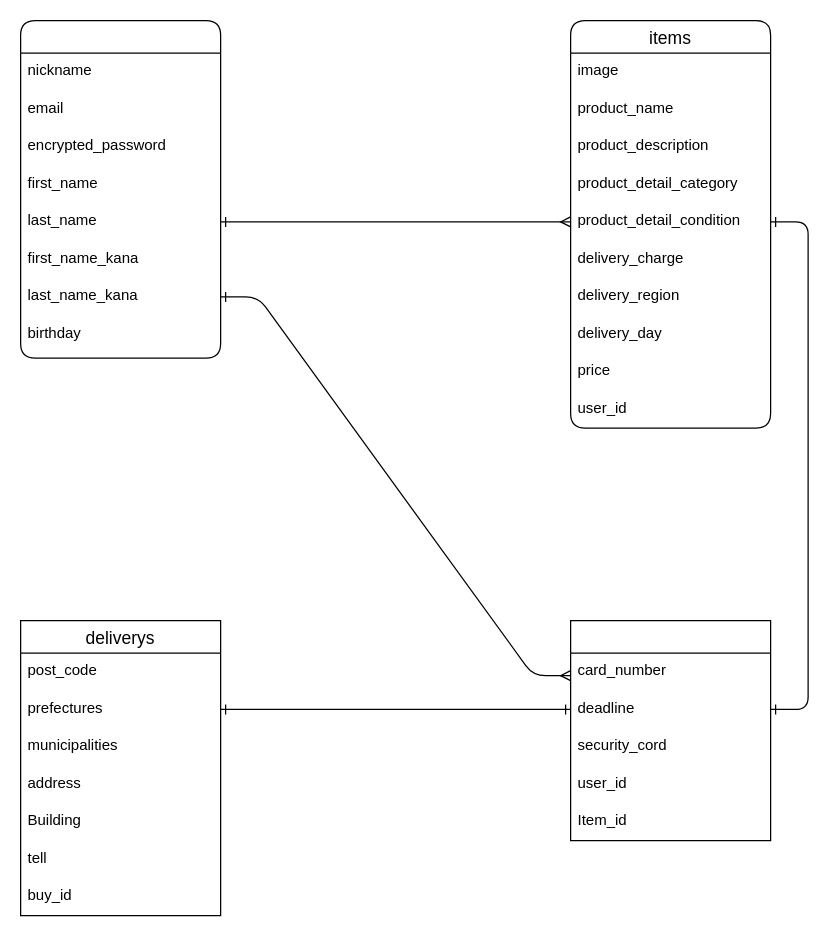
The diagram is 829 pixels wide and 936 high, and some of its shapes have lost their labels. The box of each missing label's shape, as (x1, y1, x2, y2) in pixels:
orders: (569, 619, 771, 841)
users: (19, 19, 221, 358)
